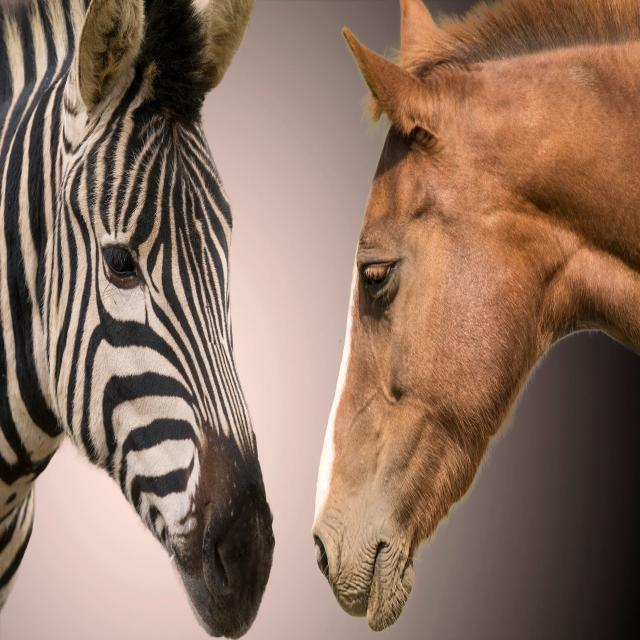Herbivorous: (311, 0, 640, 632)
